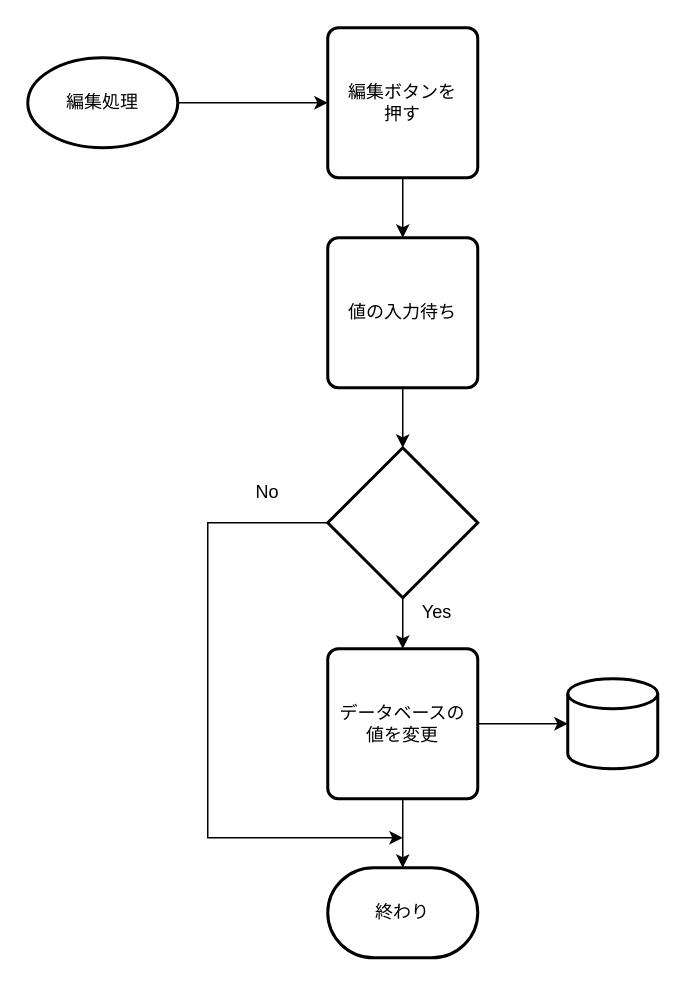
Some shapes in this 684 by 984 pixel diagram are drawn without their labels. Here are the shapes that lost their labels. From the top down, the box of each, then its label:
(326, 446, 478, 598): 編集決定ボタン が押された
(566, 676, 658, 770): sqlite3
